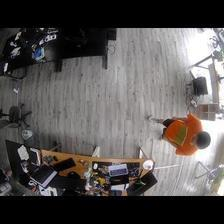normal: (146, 112, 211, 156)
